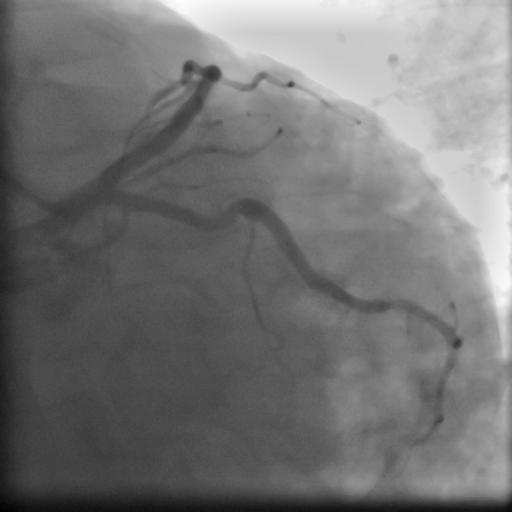Stenosis: (219, 201, 241, 226)
